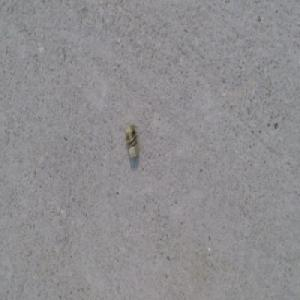BoltNutSet: (125, 124, 140, 158)
